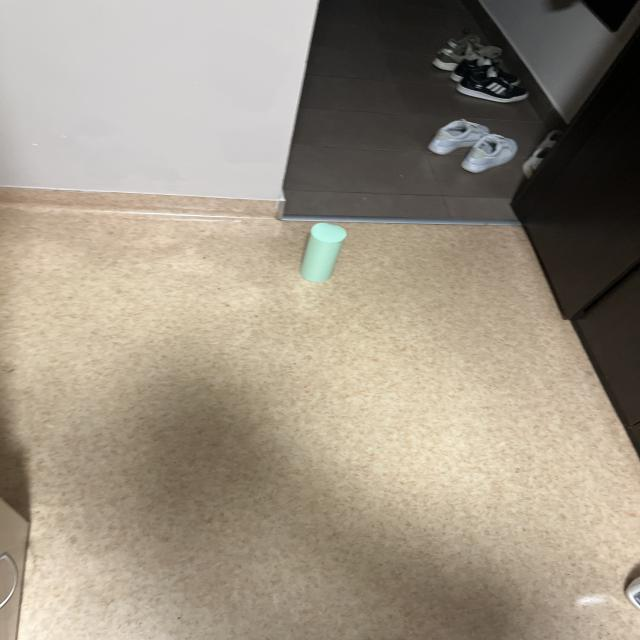meta: (300, 223, 346, 282)
